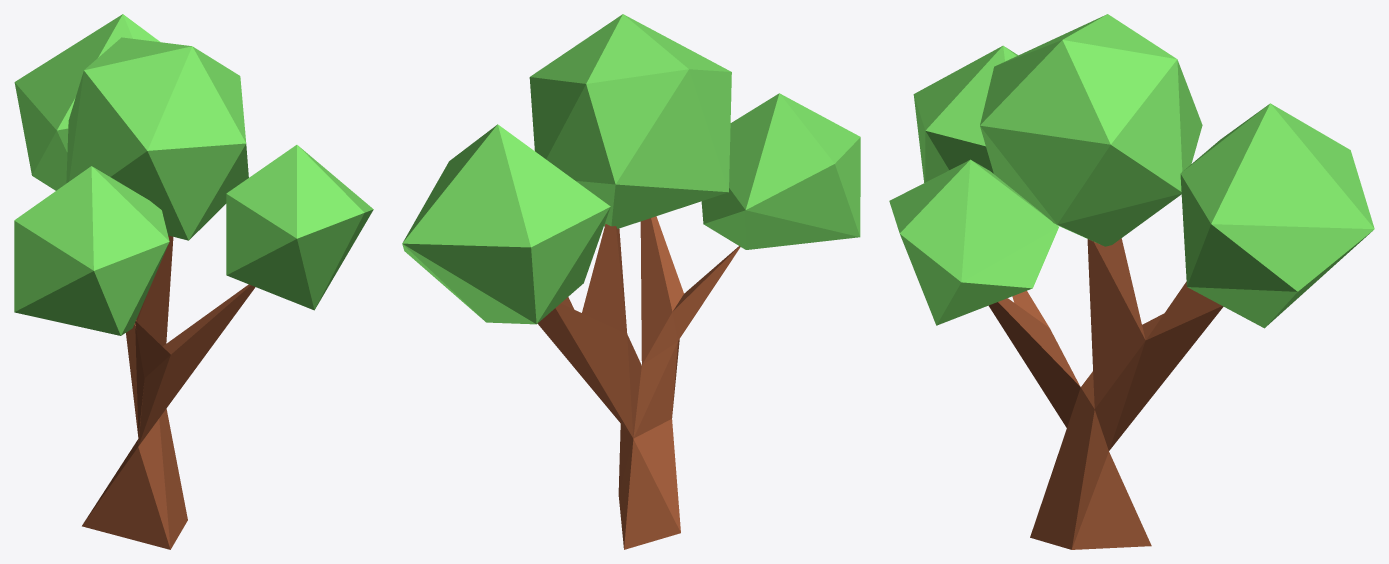
File: Tree_LOD3.fbx
The picture shows the model from 3 angles, left to right: view 1: azimuth 30°, elevation 25°; view 2: azimuth 150°, elevation 25°; view 3: azimuth 270°, elevation 25°; orthographic projection. The views are drawn at different scales.
Parts seen in each view (by area): view 1: SM_Tree_LOD3; view 2: SM_Tree_LOD3; view 3: SM_Tree_LOD3.
Boxes of the visible parts, x1,y1,x2,y2 form: SM_Tree_LOD3: (14,14,373,549); SM_Tree_LOD3: (402,14,860,549); SM_Tree_LOD3: (889,14,1374,549).
Size of the model in its own units: 396 by 547 by 455.
